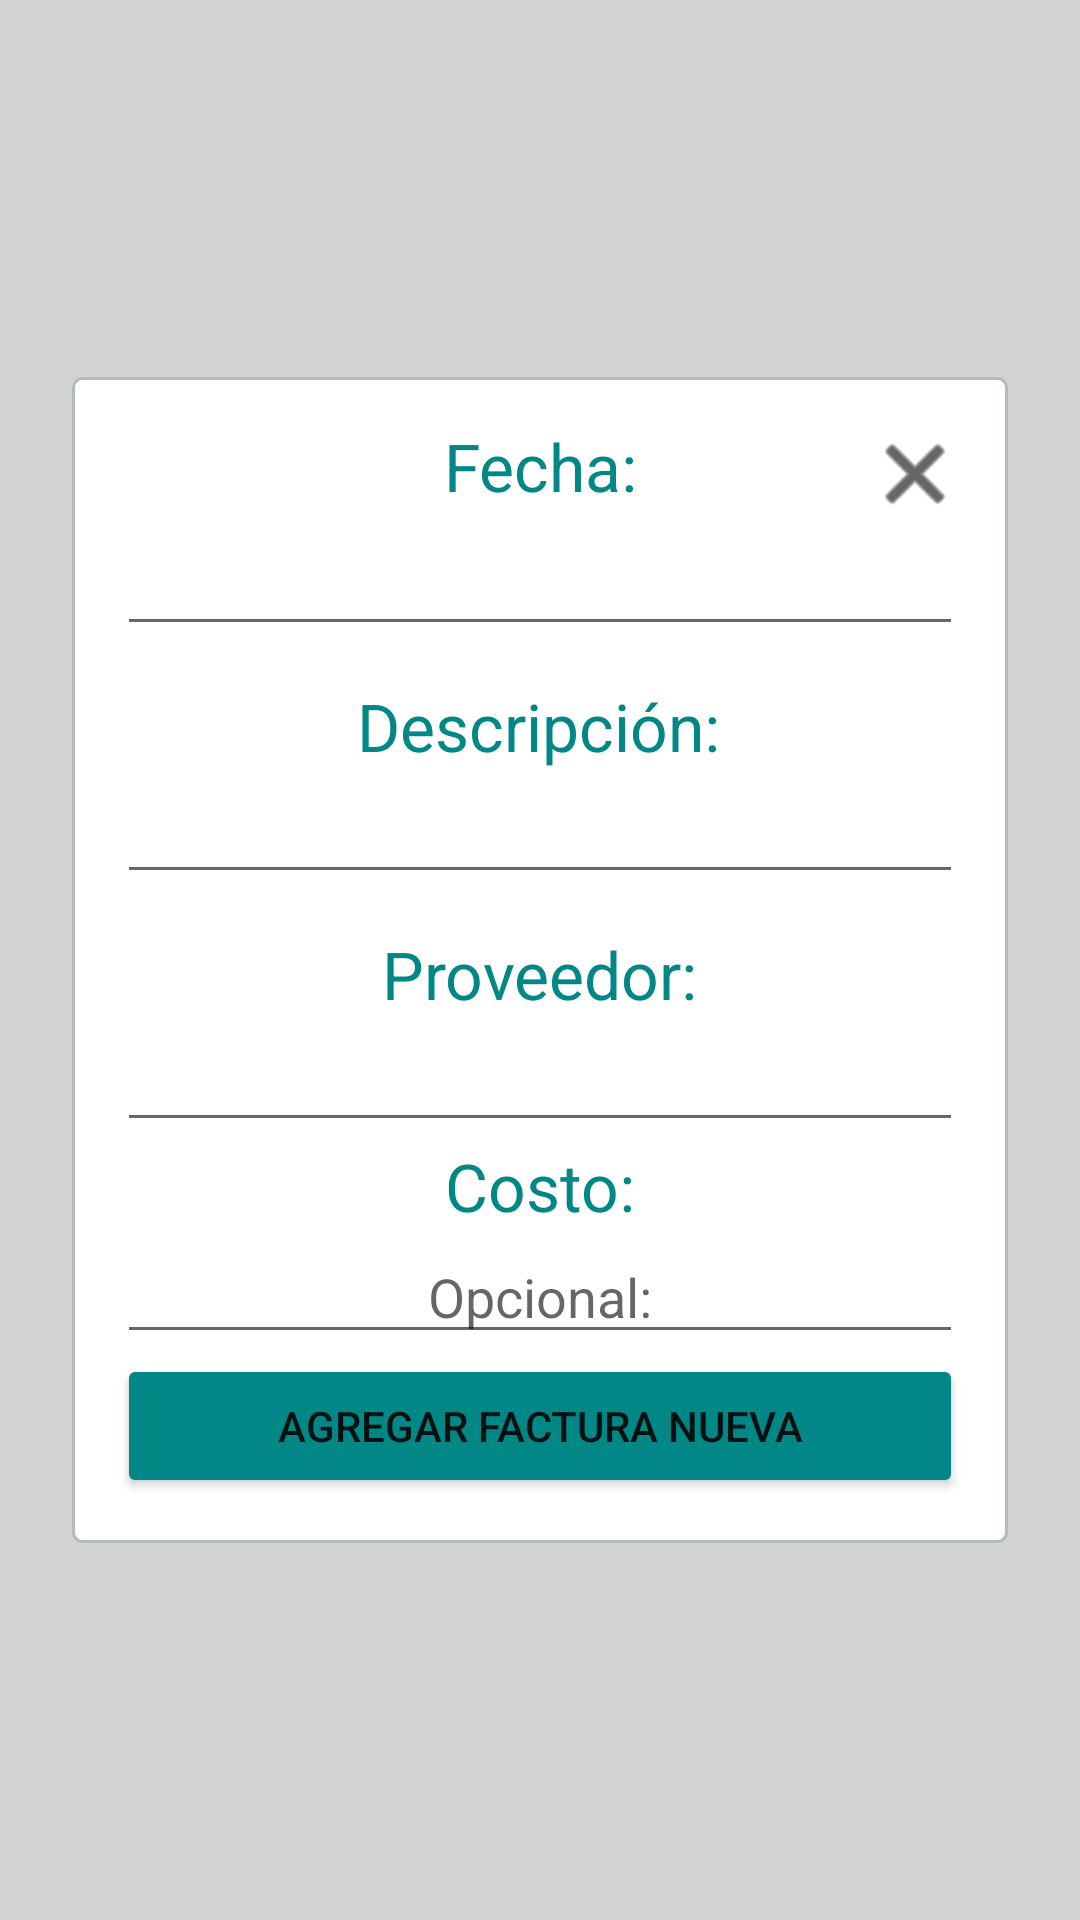

Locate icon controls on the screen. Image size 1080 x 1920, boxes as bbox=(x1, y1, x2, y2).
close clear cancel: bbox=(885, 444, 945, 504)
